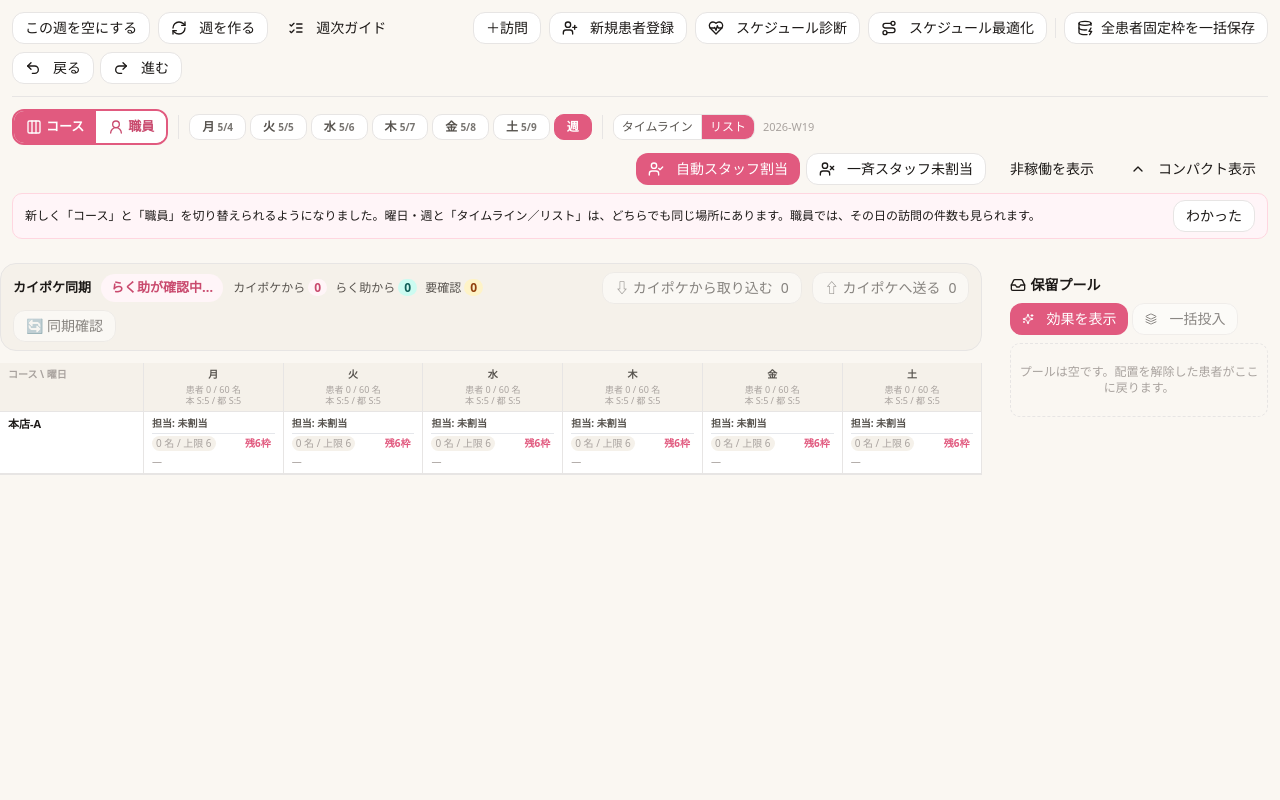
Test: CourseDayTablePanel — 上部折りたたみ (コンパクト表示) › HC-2. トグル押下 → Row1 が消え、曜日タブ / 戻る進む / 表示切替は残る
What coordinates should you click on to do the following:
click the button with test id "schedule-header-collapse-toggle"
I would click on:
 (1193, 169)
Its box is [1118,153,1268,185].
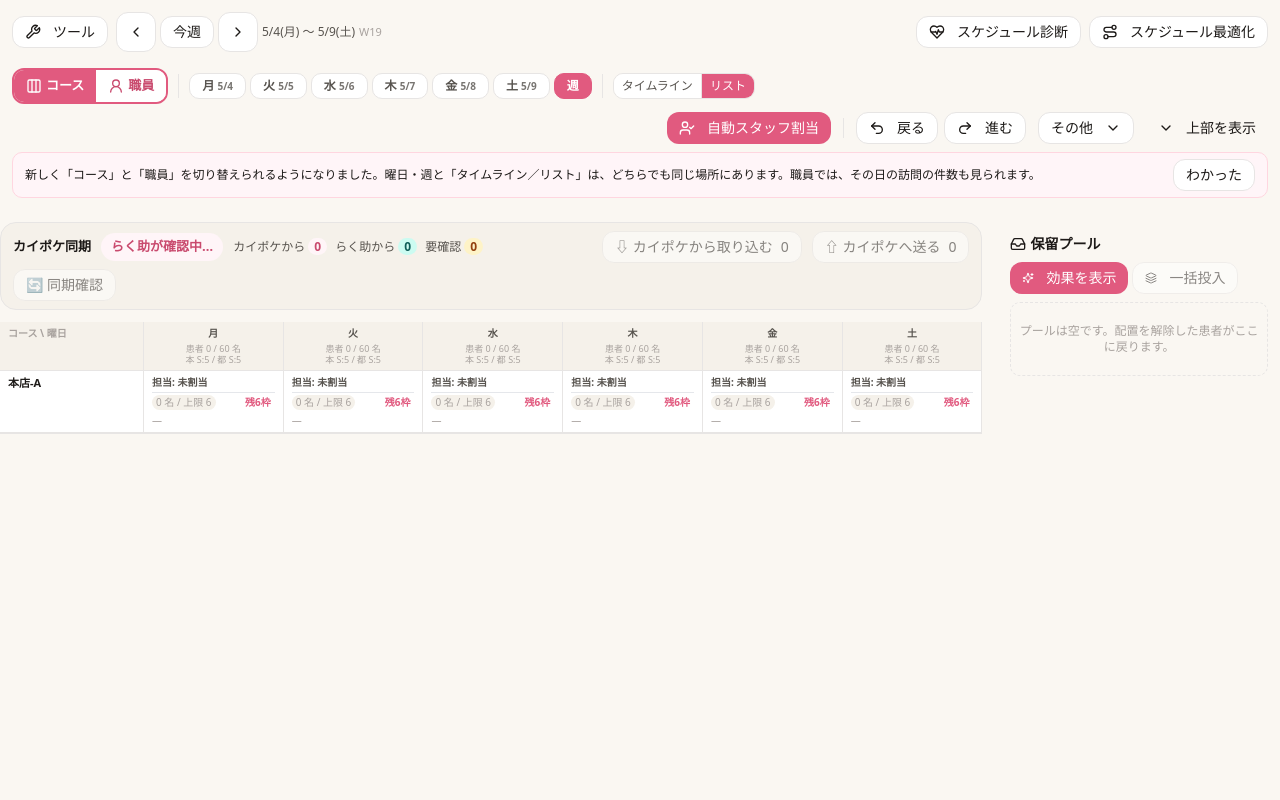
Check: the element with test id "schedule-main-action-toolbar" is gone
Check: the button with test id "generate-week-button" is gone
Check: the element with test id "course-day-bulk-pin-row" is gone
What coordinates should you click on to do the following:
click the button with test id "schedule-more-menu"
I would click on:
 (1086, 128)
Its box is [1038,112,1134,144].
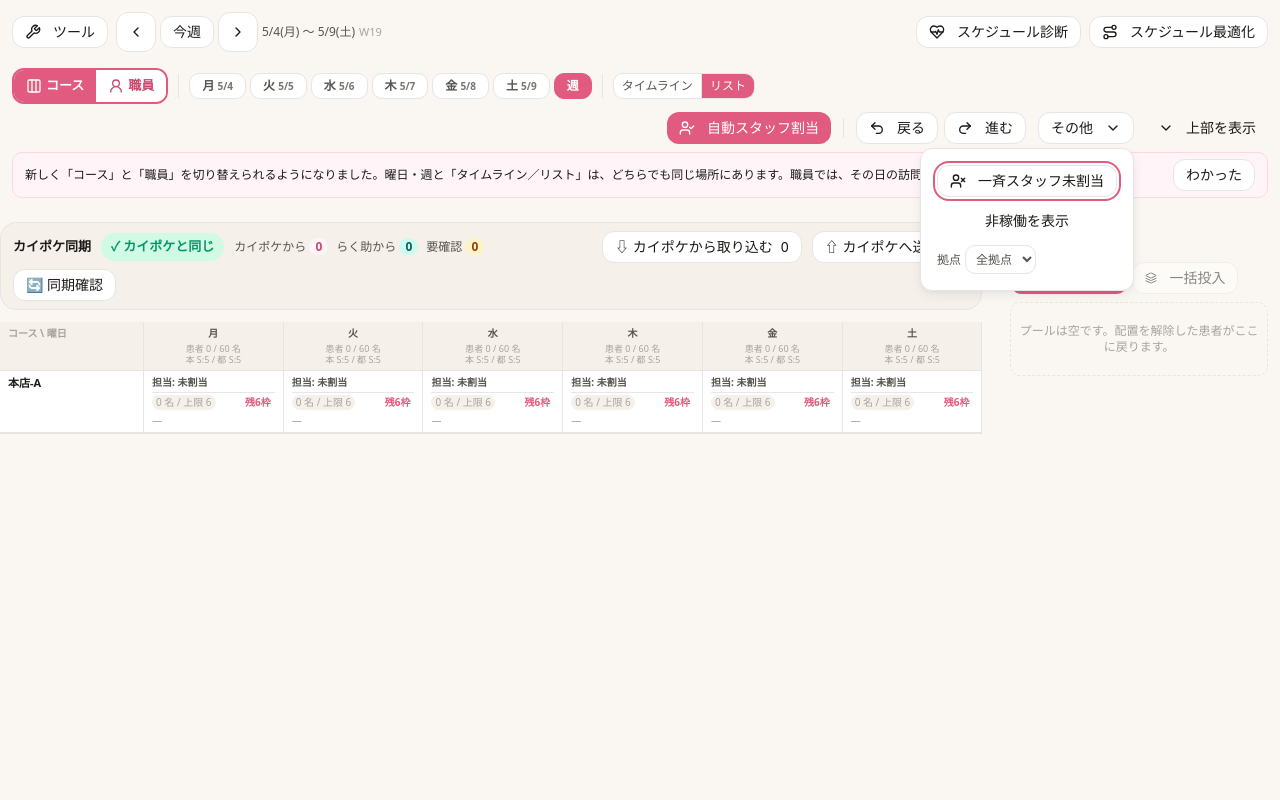
Check: the button with test id "schedule-header-collapse-toggle" reads "上部を表示", box [1146,112,1268,144]
Check: the dropdown with test id "schedule-compact-office-select" is shown, box [965,245,1036,274]
